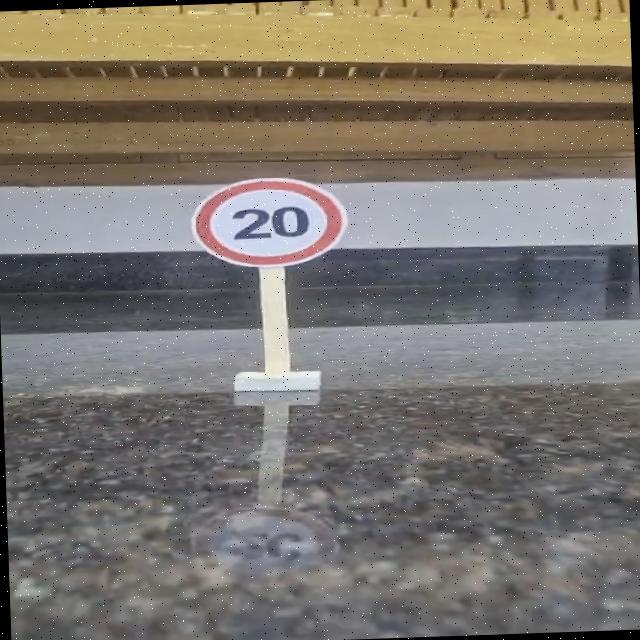Speed20: (180, 170, 357, 274)
